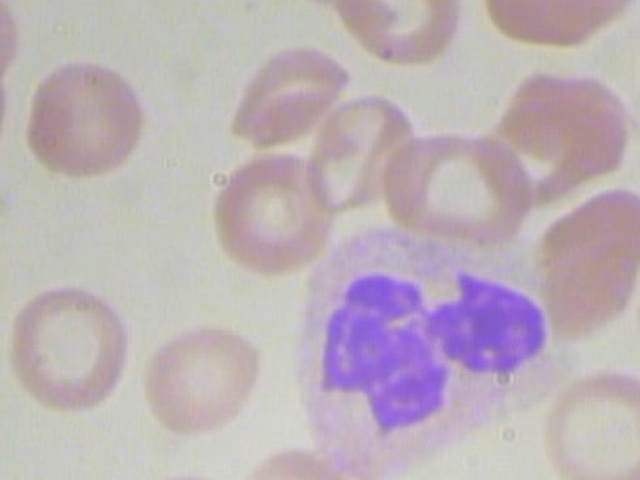RBC: (376, 127, 544, 249), (1, 269, 131, 421), (17, 35, 147, 187), (137, 298, 267, 450), (207, 143, 345, 285), (214, 39, 357, 152), (533, 356, 640, 480), (326, 0, 471, 72), (234, 439, 385, 480), (120, 461, 251, 480), (637, 264, 640, 383)
WBC: (268, 230, 571, 480)
